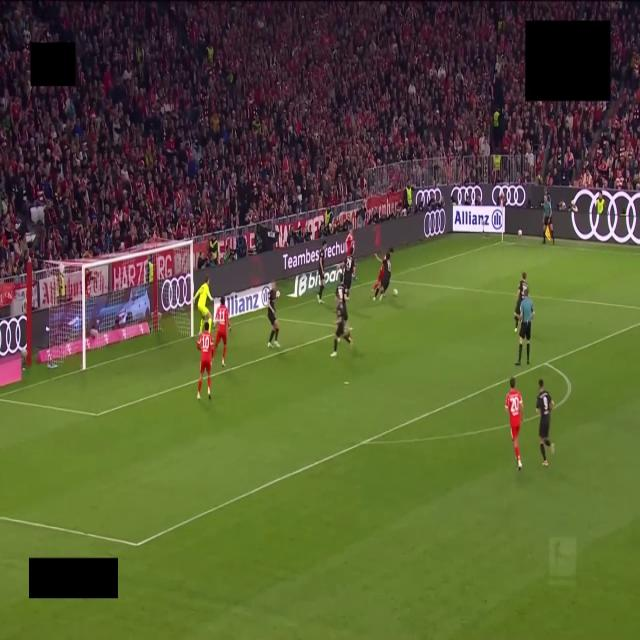ball: (393, 288, 398, 296)
player: (331, 281, 352, 357), (505, 377, 522, 470), (536, 379, 554, 465), (213, 296, 230, 367), (197, 322, 212, 399), (194, 276, 213, 333), (373, 249, 392, 299), (515, 272, 528, 332), (268, 285, 279, 348), (336, 273, 348, 322), (370, 255, 383, 297), (318, 240, 326, 303), (346, 231, 356, 279), (343, 256, 355, 292), (84, 269, 97, 298)
referee: (516, 296, 534, 366)
